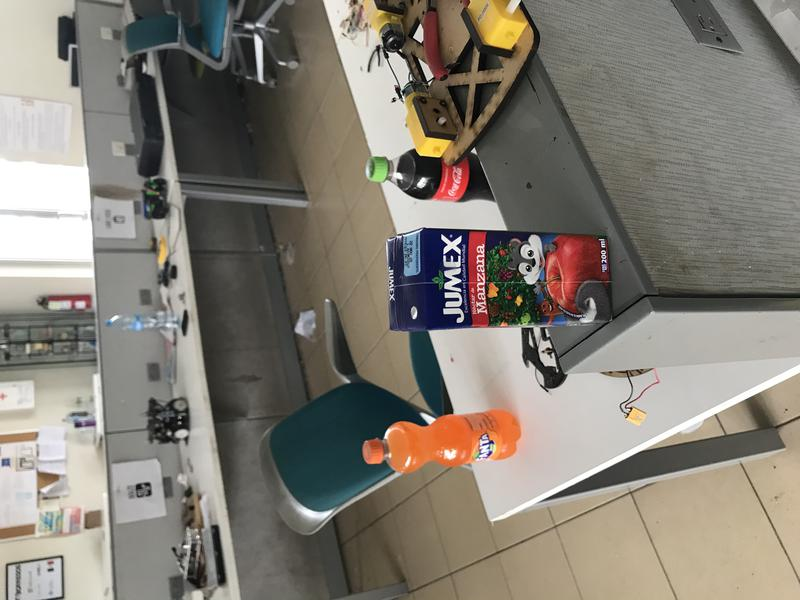fanta: (362, 410, 521, 473)
jumex_cajita: (385, 229, 615, 333)
